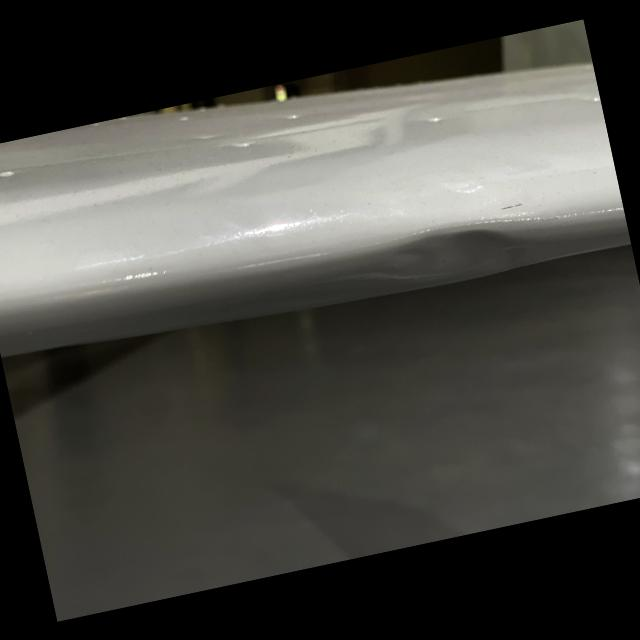dent: (354, 208, 540, 298)
